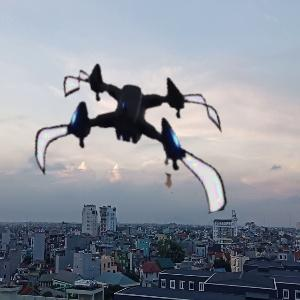drone: (30, 36, 226, 232)
